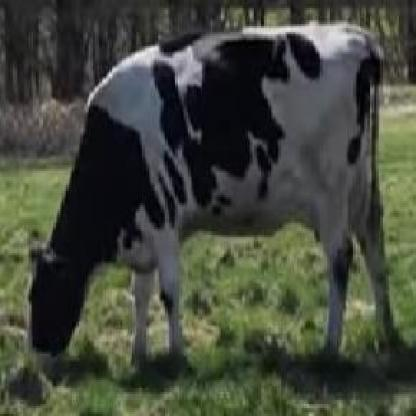cow: (27, 24, 393, 368)
